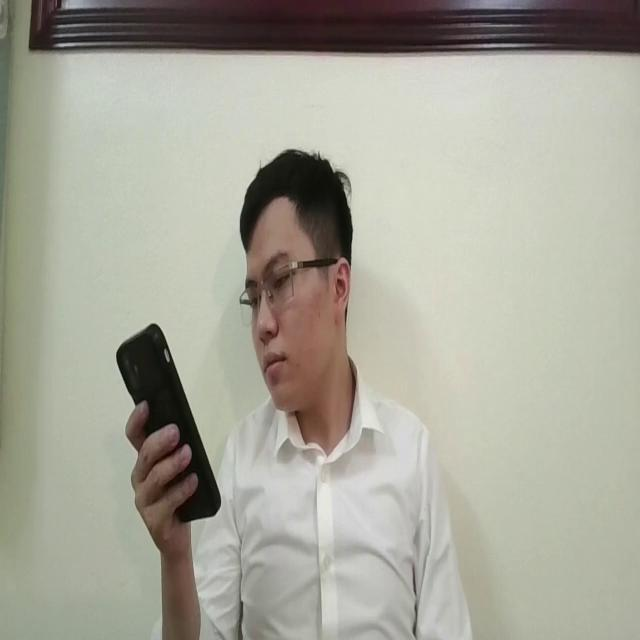phone: (115, 318, 228, 533)
student: (126, 132, 473, 640)
